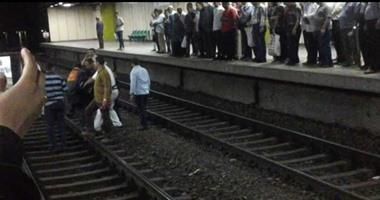person: (41, 62, 71, 151), (85, 55, 113, 144), (128, 56, 152, 130), (310, 0, 335, 68), (281, 1, 302, 67), (219, 0, 239, 61), (250, 0, 269, 63), (267, 0, 284, 63), (200, 0, 216, 59), (184, 2, 198, 57), (113, 11, 126, 51), (95, 15, 106, 51)
